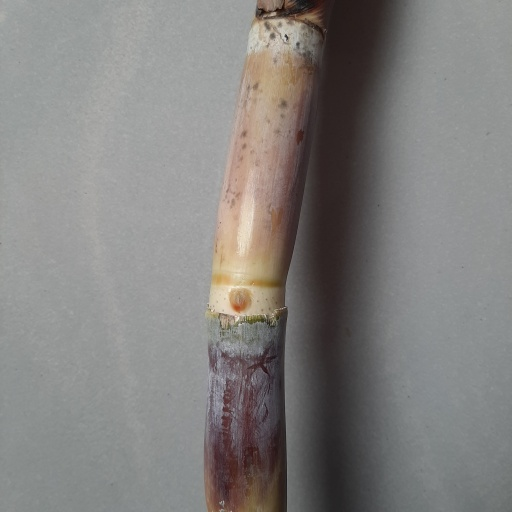Bud: (227, 287, 253, 313)
